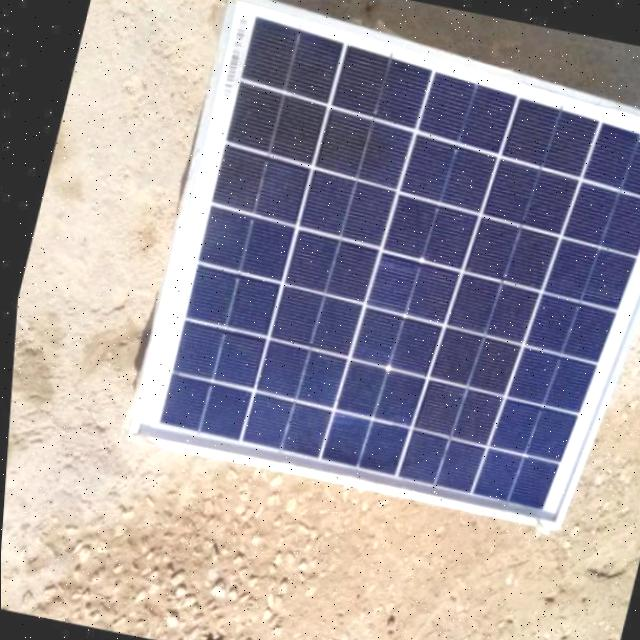Normal Solar Panel: (113, 0, 640, 537)
